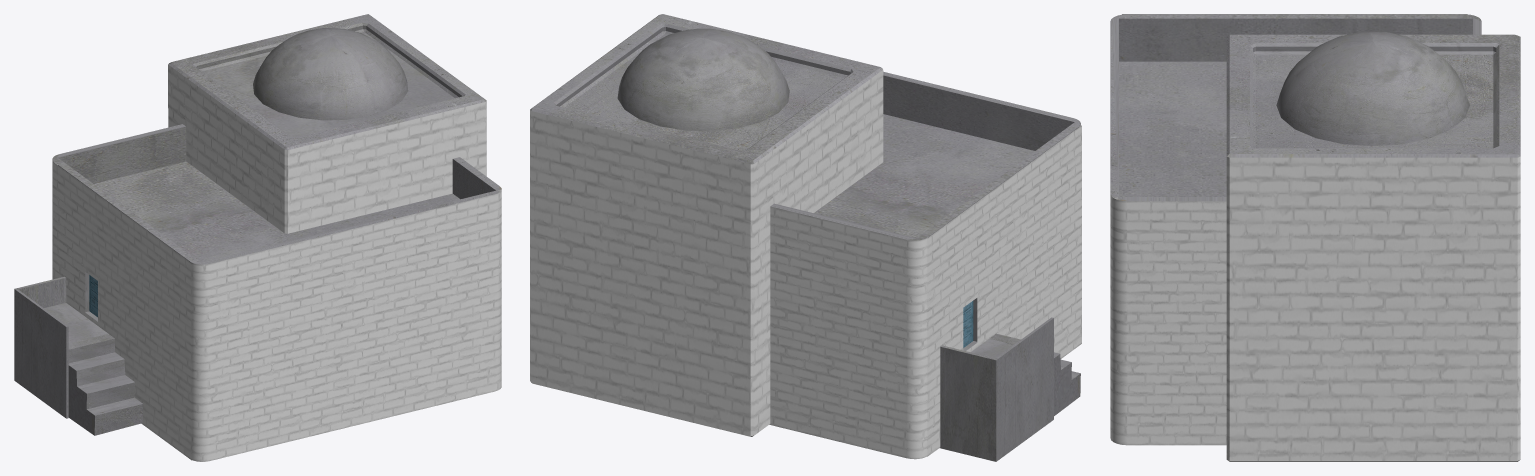
File: building.fbx
3 renders of one model, left to right at view 1: azimuth 30°, elevation 25°; view 2: azimuth 150°, elevation 25°; view 3: azimuth 270°, elevation 25°, orthographic. The views are drawn at different scales.
Parts seen in each view (by area): view 1: polySurface3, pCube7, pCube37, pSphere1, polySurface2; view 2: pCube7, polySurface3, pCube37, pSphere1, polySurface2; view 3: pCube7, polySurface3, pSphere1.
Boxes of the visible parts, x1,y1,x2,y2 form: polySurface3: (52, 124, 501, 461); pCube7: (168, 14, 486, 233); pCube37: (14, 276, 142, 435); pSphere1: (253, 27, 408, 120); polySurface2: (85, 272, 97, 321); pCube7: (530, 14, 883, 436); polySurface3: (769, 71, 1081, 459); pCube37: (940, 317, 1080, 461); pSphere1: (617, 28, 789, 130); polySurface2: (963, 298, 977, 350); pCube7: (1226, 34, 1520, 461); polySurface3: (1110, 14, 1481, 445); pSphere1: (1276, 31, 1469, 145).
Bounding box in the file's own units: 13.46 × 9.69 × 9.95.
